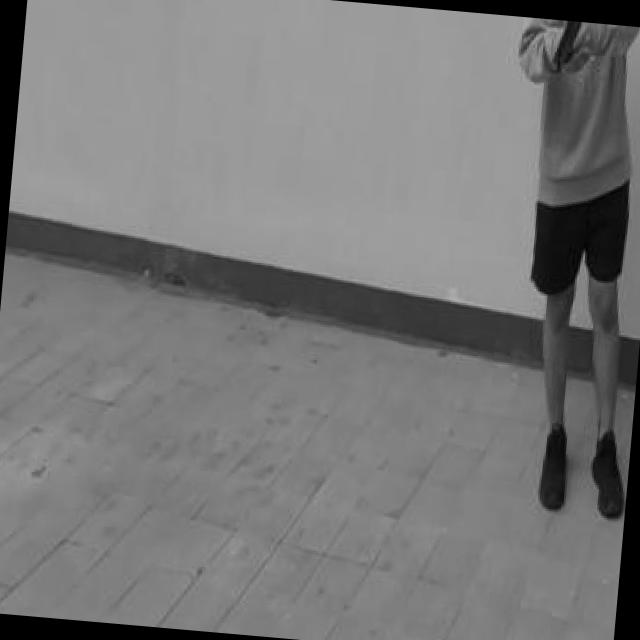Guns: (532, 18, 601, 81)
